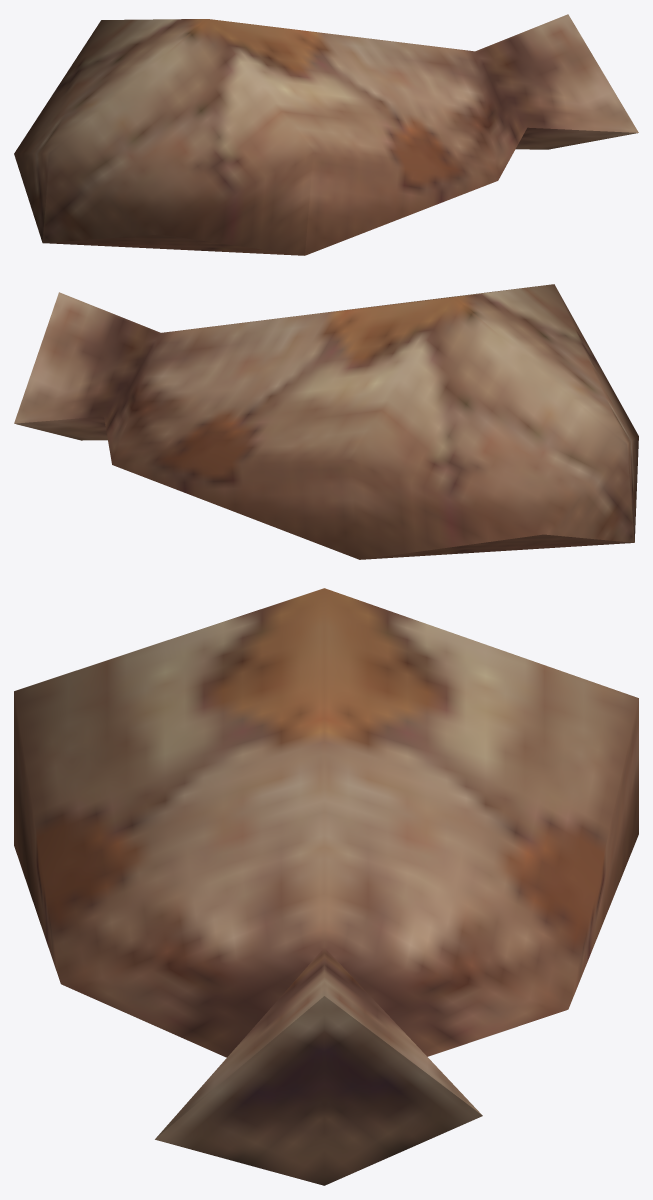
The model's file is common_city_madai.FBX.
3 views of the same model, one above another, from view 1: azimuth 30°, elevation 25°; view 2: azimuth 150°, elevation 25°; view 3: azimuth 270°, elevation 25° (orthographic). The views are drawn at different scales.
Visible parts, largest first — view 1: common_city_madai; view 2: common_city_madai; view 3: common_city_madai.
Part boxes in pixels (<box>): common_city_madai: <box>14,14,638,255</box>; common_city_madai: <box>14,284,638,559</box>; common_city_madai: <box>14,588,638,1185</box>.
Size of the model in its own units: 112 by 42.36 by 71.35.
